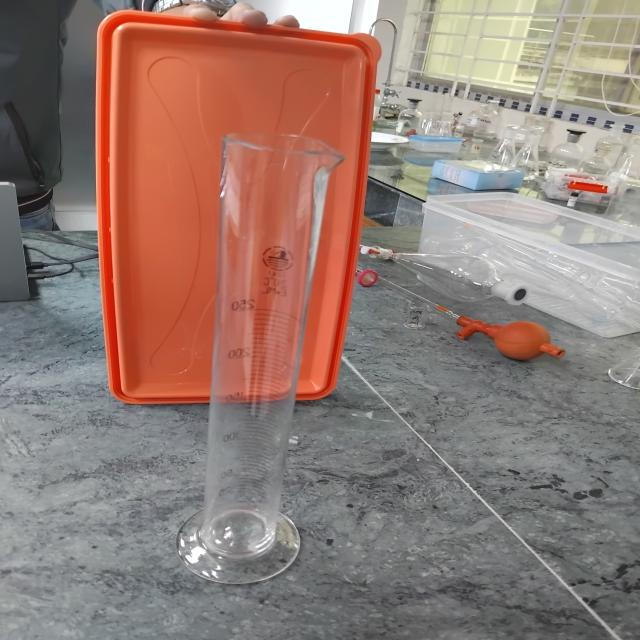Measuring_Cylinder: (184, 103, 328, 598)
